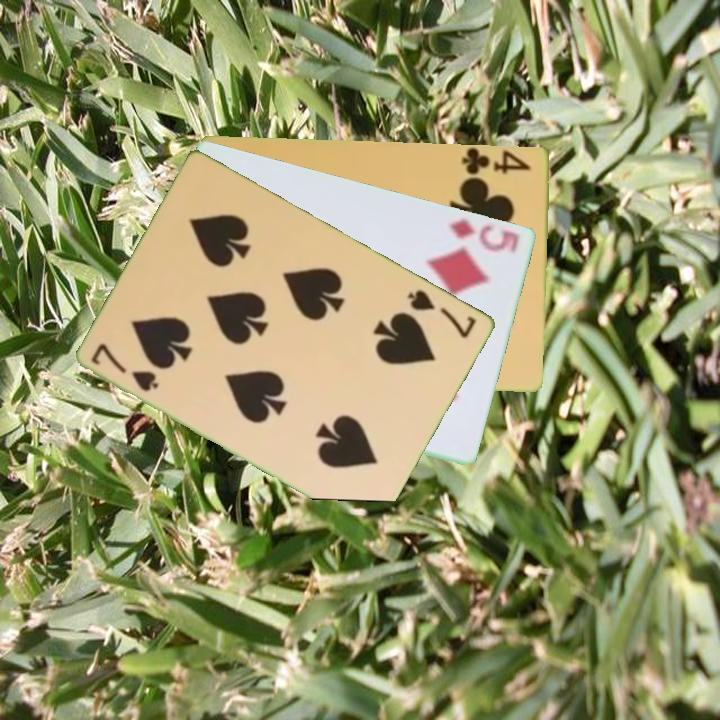4c: (458, 146, 534, 177)
5d: (447, 214, 523, 256)
7s: (87, 339, 162, 395), (404, 286, 480, 341)
